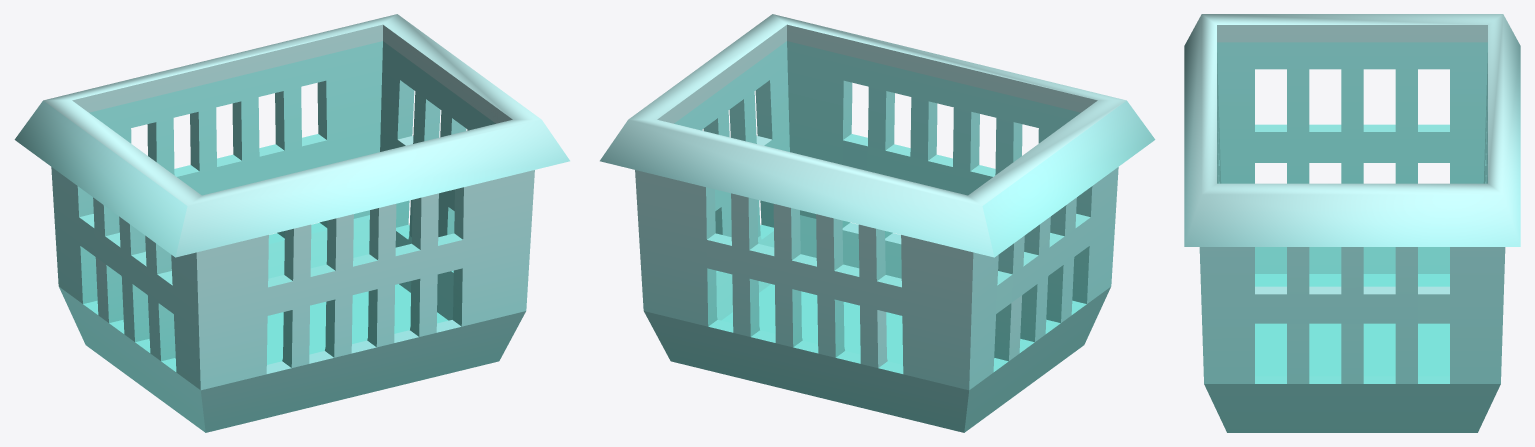
Rendered from Basket_Plastic_Medium_Laundromat.fbx.
3 views of the same model, side by side, from view 1: azimuth 30°, elevation 25°; view 2: azimuth 150°, elevation 25°; view 3: azimuth 270°, elevation 25° (orthographic). The views are drawn at different scales.
Visible parts, largest first — view 1: Basket_Plastic_Medium.Laundromat; view 2: Basket_Plastic_Medium.Laundromat; view 3: Basket_Plastic_Medium.Laundromat.
Boxes of the visible parts, x1,y1,x2,y2 form: Basket_Plastic_Medium.Laundromat: (14,14,569,432); Basket_Plastic_Medium.Laundromat: (600,14,1155,432); Basket_Plastic_Medium.Laundromat: (1184,14,1520,432).
Size of the model in its own units: 85 by 50 by 60.
Materials: 1 (1 with a texture image).
